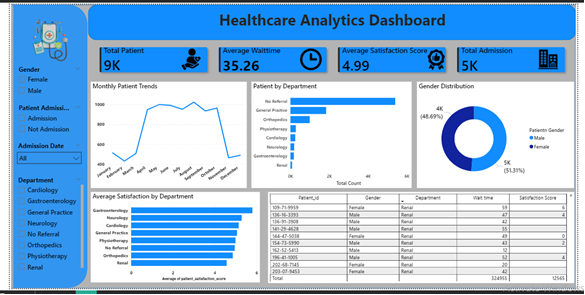

Layout of this report page (visuals, bound fields, positions):
{"tool":"powerbi","page":{"name":"Page 1","canvas":[1600,800],"ordinal":0},"visuals":[{"type":"shape","box":[5.1,0,1590.4,800.3],"z":0},{"type":"shape","box":[9.2,0,209.4,799],"z":1000},{"type":"image","box":[9.1,16.6,208.4,167.6],"z":2000},{"type":"cardVisual","fields":{"Data":["healthcare_analytics_db healthcare_analytics.Total Count","healthcare_analytics_db healthcare_analytics.Average patient waittime","healthcare_analytics_db healthcare_analytics.Average patient satisfaction score","healthcare_analytics_db healthcare_analytics.Total Admission"]},"box":[223.1,90.2,1370.8,129.4],"z":3000},{"type":"lineChart","title":"Monthly Patient Trends","fields":{"Y":["healthcare_analytics_db healthcare_analytics.Total Count"],"Category":["healthcare_analytics_db healthcare_analytics.patient_admission_date.Variation.Date Hierarchy.Month"]},"box":[228.2,218,439.3,299.7],"z":4000},{"type":"barChart","title":"Patient by Department","fields":{"Category":["healthcare_analytics_db healthcare_analytics.department_referral"],"Y":["healthcare_analytics_db healthcare_analytics.Total Count"]},"box":[681.1,218,451.2,299.7],"z":5000},{"type":"donutChart","title":"Gender Distribution","fields":{"Category":["healthcare_analytics_db healthcare_analytics.patient_gender"],"Y":["healthcare_analytics_db healthcare_analytics.Total Count"]},"box":[1147.7,218,442.7,299.7],"z":6000},{"type":"barChart","title":"Average Satisfaction by Department","fields":{"Category":["healthcare_analytics_db healthcare_analytics.department_referral"],"Y":["Avg(healthcare_analytics_db healthcare_analytics.patient_satisfaction_score)"]},"box":[228.2,527.9,476.8,255.4],"z":7000},{"type":"tableEx","fields":{"Values":["healthcare_analytics_db healthcare_analytics.patient_id","healthcare_analytics_db healthcare_analytics.patient_gender","healthcare_analytics_db healthcare_analytics.department_referral","Sum(healthcare_analytics_db healthcare_analytics.patient_wait_time)","Sum(healthcare_analytics_db healthcare_analytics.patient_satisfaction_score)"]},"box":[727.1,527.9,863.3,257.1],"z":8000},{"type":"slicer","fields":{"Values":["healthcare_analytics_db healthcare_analytics.patient_admission_date"]},"box":[10.9,382,200.8,96.6],"z":9000},{"type":"slicer","fields":{"Values":["healthcare_analytics_db healthcare_analytics.department_referral"]},"box":[10.2,478.6,202.3,280.8],"z":10000},{"type":"slicer","fields":{"Values":["healthcare_analytics_db healthcare_analytics.patient_admission_flag"]},"box":[11.7,274.8,199.3,101.2],"z":11000},{"type":"slicer","fields":{"Values":["healthcare_analytics_db healthcare_analytics.patient_gender"]},"box":[12.2,166.7,198.3,101.7],"z":12000},{"type":"shape","box":[220,0,1375,100],"z":13000},{"type":"textbox","box":[227.4,7.5,1362.6,83.9],"z":14000},{"type":"image","box":[471.4,123.6,78.6,60.7],"z":14001},{"type":"image","box":[808.6,124.3,78.6,60.7],"z":14002},{"type":"image","box":[1159.2,124.2,84.2,63.3],"z":14003},{"type":"image","box":[1477.9,123.6,78.6,60.7],"z":14004}]}

Visuals, with their boxes in screenshot pixels (x1, y1, x2, y2), scaled from the page's 1600x800 canvas onto the 585x295 screenshot:
shape: pyautogui.locateOnScreen(2, 0, 583, 294)
shape: pyautogui.locateOnScreen(3, 0, 80, 294)
image: pyautogui.locateOnScreen(3, 6, 80, 68)
cardVisual - healthcare_analytics_db healthcare_analytics.Total Count x healthcare_analytics_db healthcare_analytics.Average patient waittime: pyautogui.locateOnScreen(82, 33, 583, 81)
"Monthly Patient Trends" lineChart: pyautogui.locateOnScreen(83, 80, 244, 191)
"Patient by Department" barChart: pyautogui.locateOnScreen(249, 80, 414, 191)
"Gender Distribution" donutChart: pyautogui.locateOnScreen(420, 80, 581, 191)
"Average Satisfaction by Department" barChart: pyautogui.locateOnScreen(83, 195, 258, 289)
tableEx - healthcare_analytics_db healthcare_analytics.patient_id x healthcare_analytics_db healthcare_analytics.patient_gender: pyautogui.locateOnScreen(266, 195, 581, 289)
slicer - healthcare_analytics_db healthcare_analytics.patient_admission_date: pyautogui.locateOnScreen(4, 141, 77, 176)
slicer - healthcare_analytics_db healthcare_analytics.department_referral: pyautogui.locateOnScreen(4, 176, 78, 280)
slicer - healthcare_analytics_db healthcare_analytics.patient_admission_flag: pyautogui.locateOnScreen(4, 101, 77, 139)
slicer - healthcare_analytics_db healthcare_analytics.patient_gender: pyautogui.locateOnScreen(4, 61, 77, 99)
shape: pyautogui.locateOnScreen(80, 0, 583, 37)
textbox: pyautogui.locateOnScreen(83, 3, 581, 34)
image: pyautogui.locateOnScreen(172, 46, 201, 68)
image: pyautogui.locateOnScreen(296, 46, 324, 68)
image: pyautogui.locateOnScreen(424, 46, 455, 69)
image: pyautogui.locateOnScreen(540, 46, 569, 68)
